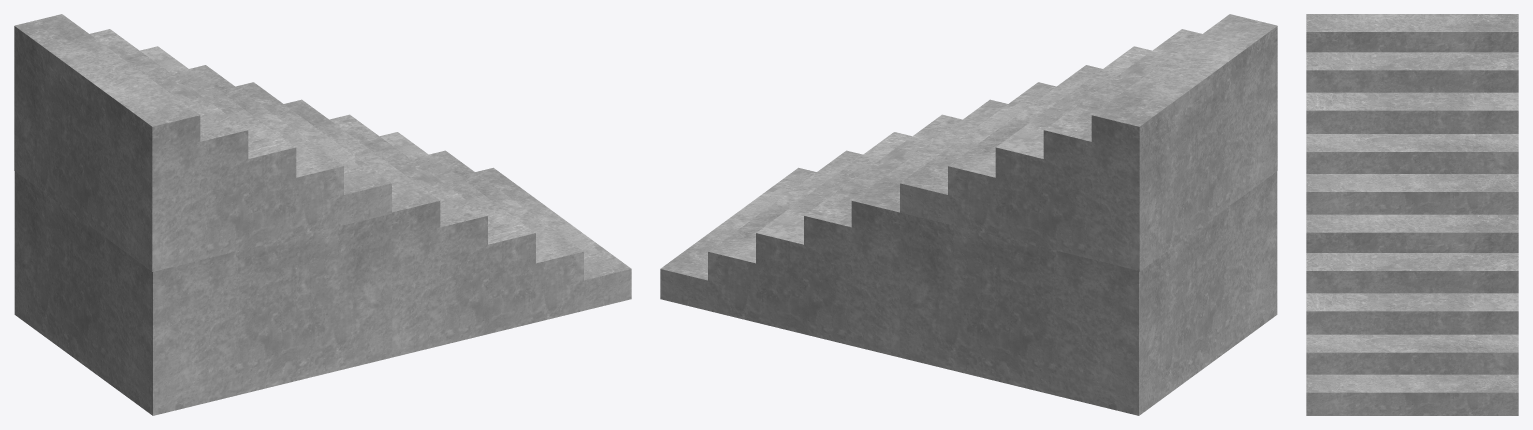
File: 10StepStairs.fbx
3 views of the same model, side by side, from view 1: azimuth 30°, elevation 25°; view 2: azimuth 150°, elevation 25°; view 3: azimuth 270°, elevation 25° (orthographic). The views are drawn at different scales.
Parts seen in each view (by area): view 1: Cube.016, Cube.015, Cube.013; view 2: Cube.016, Cube.015, Cube.013; view 3: Cube.013, Cube.016.
Part boxes in pixels (bbox=[...]): Cube.016: bbox=[14, 14, 391, 271]; Cube.015: bbox=[14, 171, 392, 415]; Cube.013: bbox=[284, 99, 631, 357]; Cube.016: bbox=[900, 14, 1277, 271]; Cube.015: bbox=[899, 171, 1277, 415]; Cube.013: bbox=[660, 99, 1007, 357]; Cube.013: bbox=[1306, 214, 1518, 415]; Cube.016: bbox=[1306, 14, 1518, 214].
Size of the model in its own units: 247 by 143 by 124.
